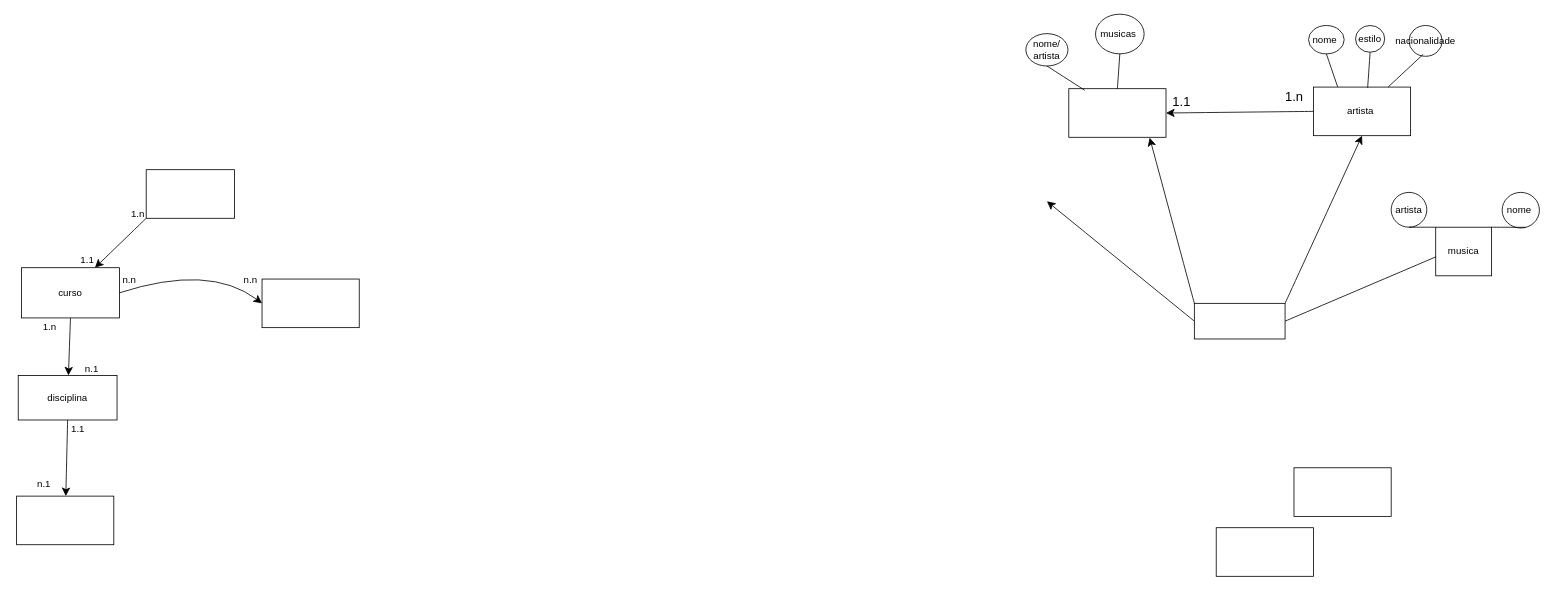
This 1554x590 diagram has some shape labels left out. Here are the shapes that lost their labels. From the top down, the centre of each, then its label:
At [1117,112]: "álbuns".
At [189,193]: "departamento".
At [310,303]: "aluno".
At [1239,321]: "pesquisa".
At [65,520]: "professor".
